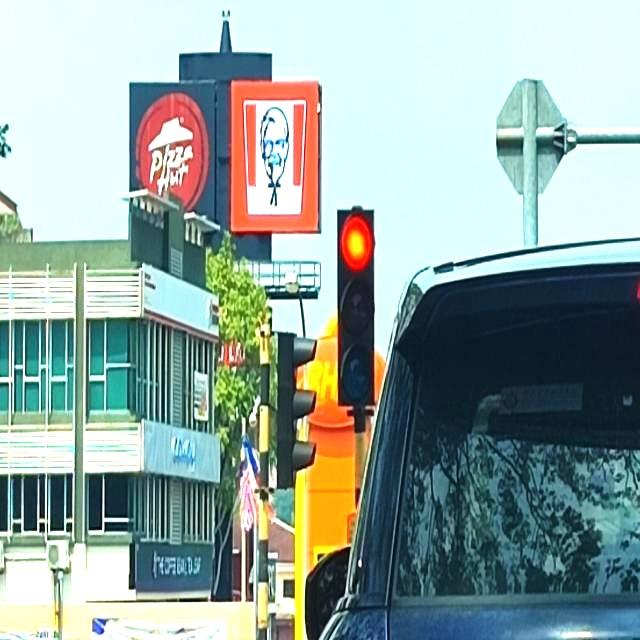Red: (335, 209, 376, 402)
